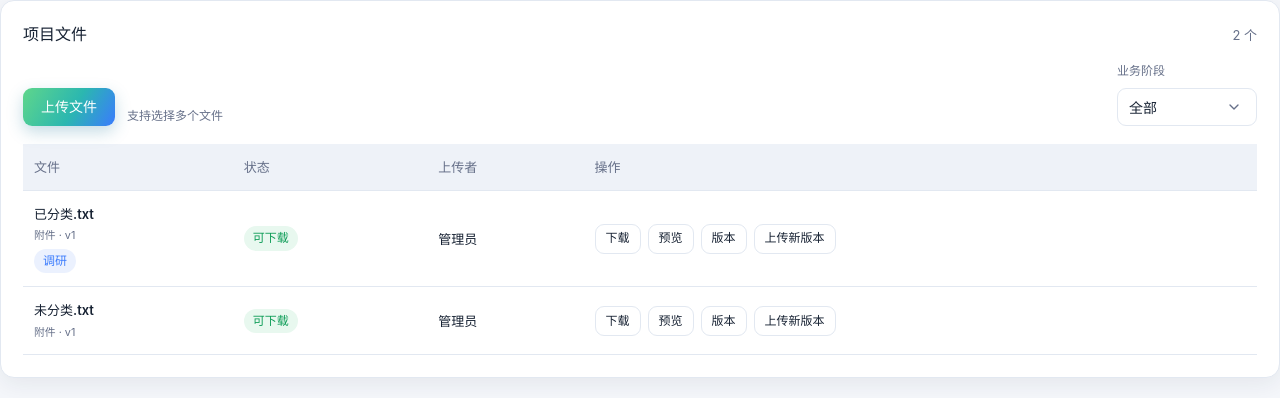
Test: project files workspace › filters uncategorized files via the 未分类 filter token
The image size is (1280, 398).
Expected: the table named "项目文件" is shown, left=23, top=144, right=1257, bottom=355
Expected: the text "已分类.txt" is shown, left=34, top=206, right=94, bottom=222
Select "未分类" in the dropdown named "筛选业务阶段" at (1187, 107), box left=1117, top=88, right=1257, bottom=126
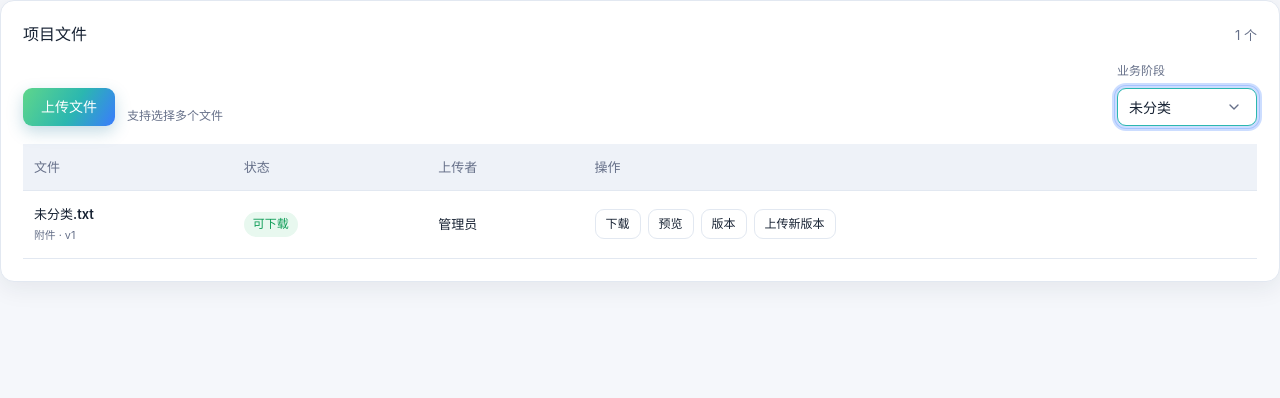
Expected: the text "未分类.txt" is shown, left=34, top=206, right=94, bottom=222
Result: the text "已分类.txt" is gone
